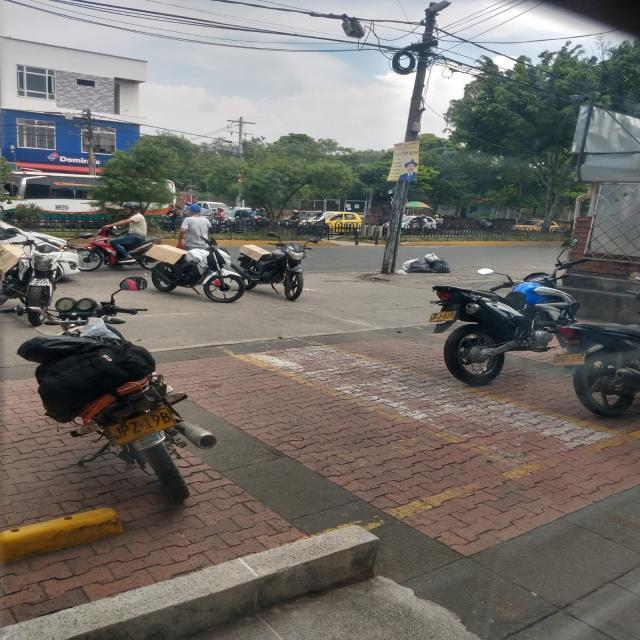Trashbag: (409, 259, 431, 277), (432, 261, 452, 275)
